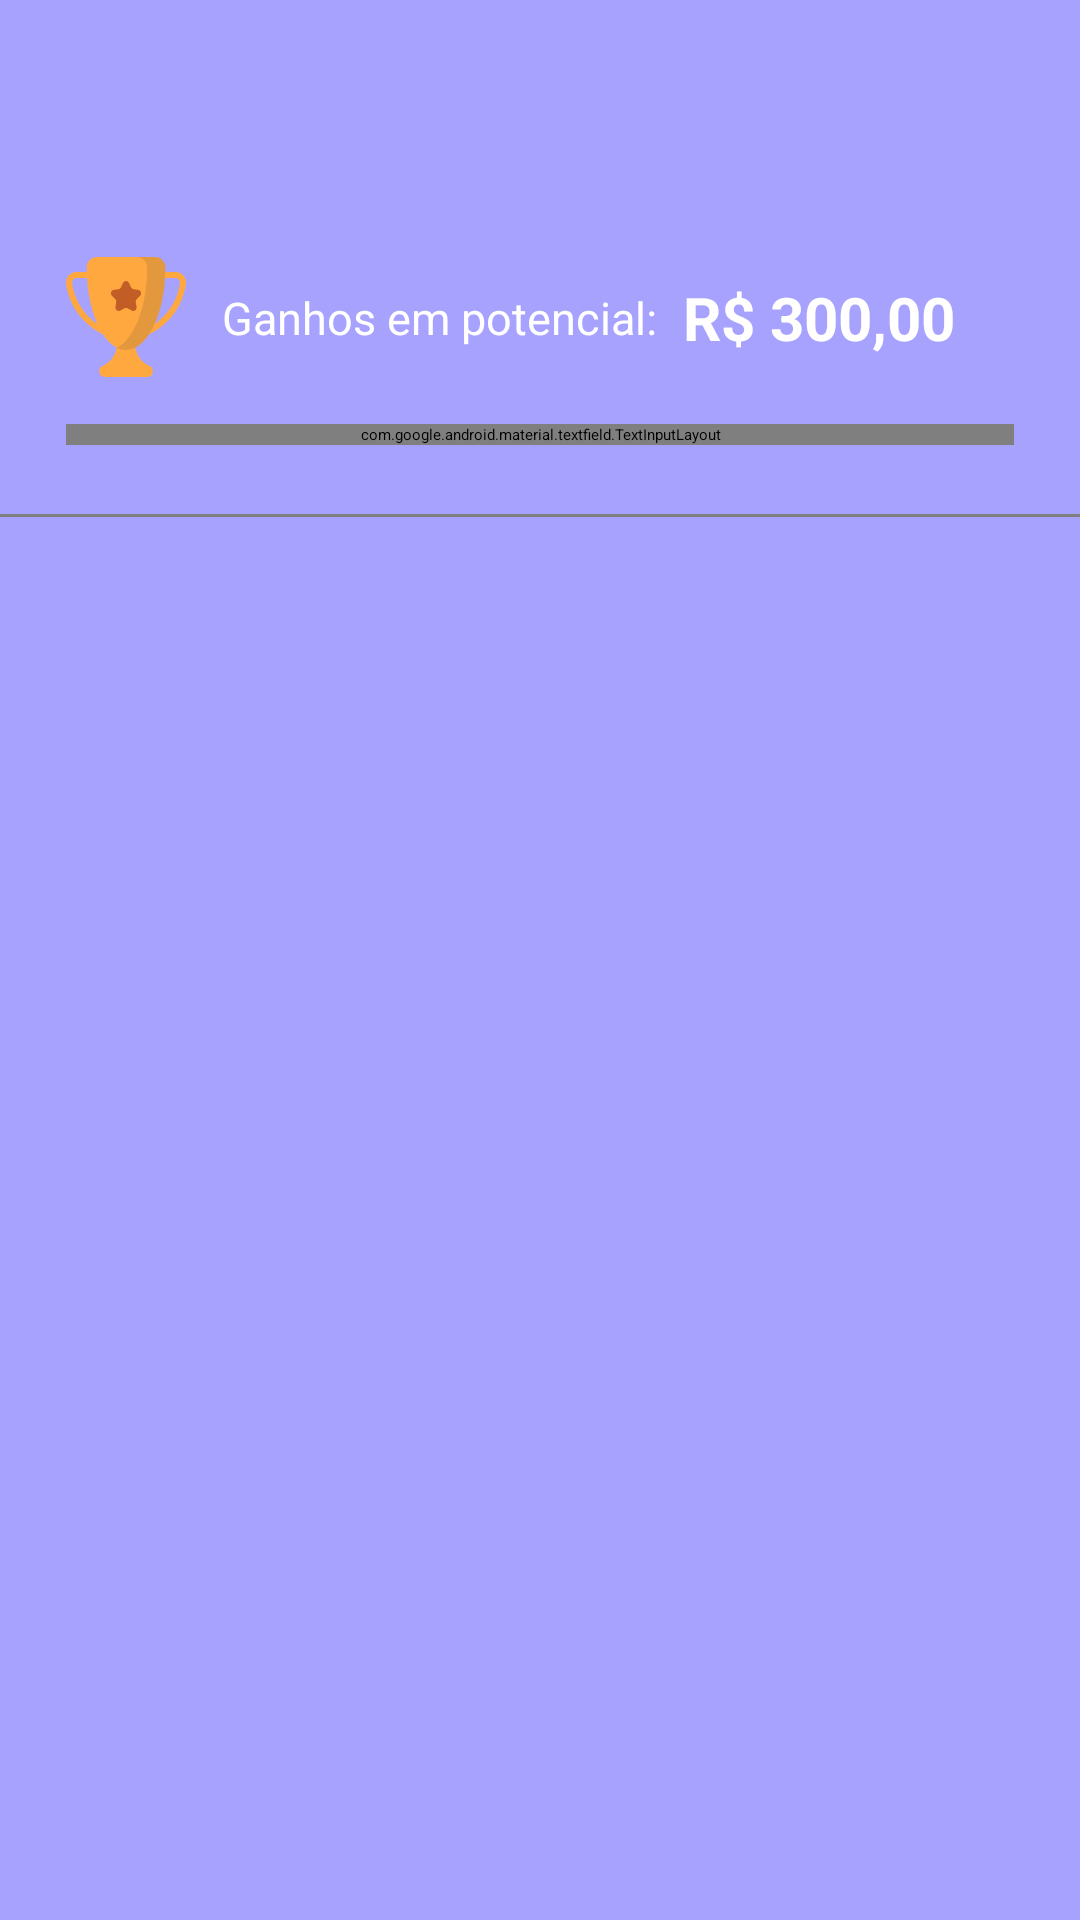

Screen size 1080×1920. Icon name, then its box in pixels as bbox=(x1, y1, x2, y2):
trophy: bbox=(66, 257, 186, 377)
